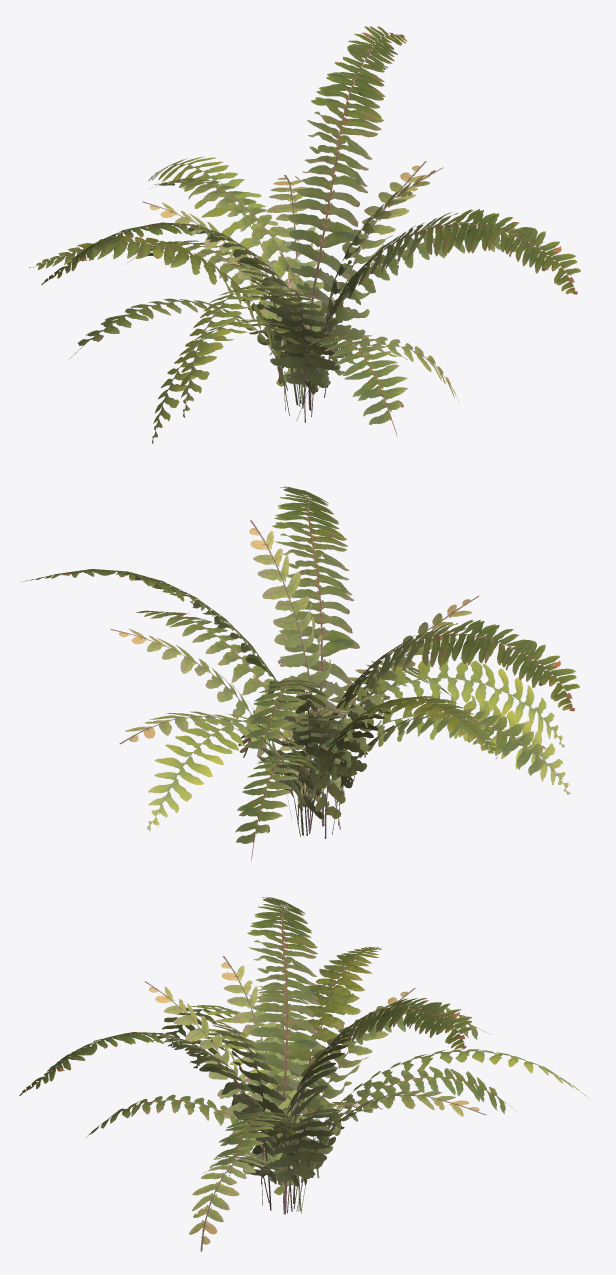
File: Sword Fern.FBX
The picture shows the model from 3 angles, top to bottom: view 1: azimuth 30°, elevation 25°; view 2: azimuth 150°, elevation 25°; view 3: azimuth 270°, elevation 25°; orthographic projection. The views are drawn at different scales.
Visible parts, largest first — view 1: Sword Fern_LOD0; view 2: Sword Fern_LOD0; view 3: Sword Fern_LOD0.
Boxes of the visible parts, box(x1,y1,x2,y2) form: Sword Fern_LOD0: box(29, 26, 580, 443); Sword Fern_LOD0: box(20, 486, 579, 861); Sword Fern_LOD0: box(19, 897, 589, 1251).
Size of what is drawn, in the model's own units: 214 by 232 by 117.
